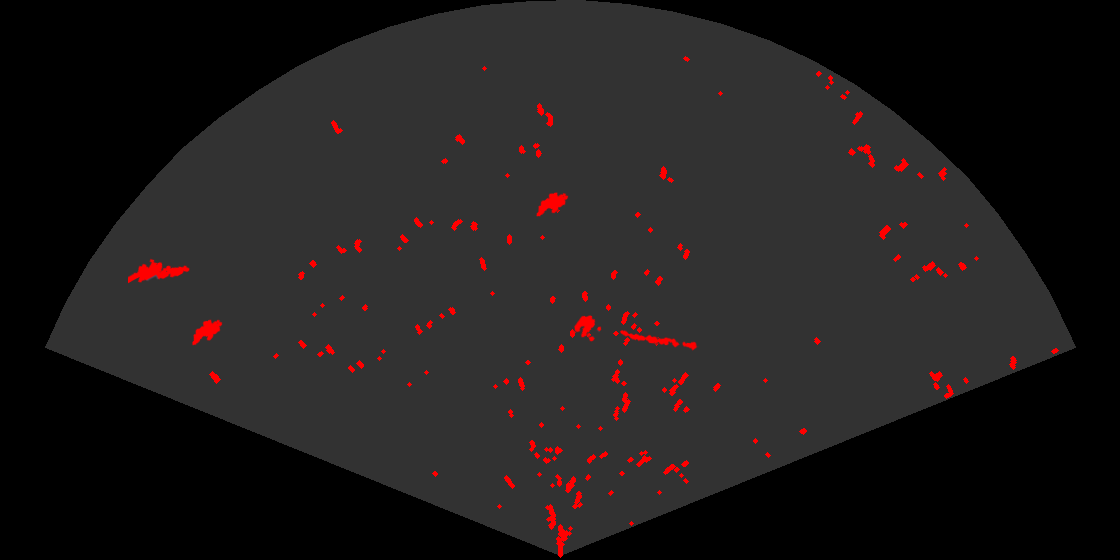AUV: (190, 318, 224, 347), (534, 191, 570, 218)
ball: (573, 314, 603, 343)
chain: (618, 329, 699, 352)
frogman: (128, 257, 191, 285)
